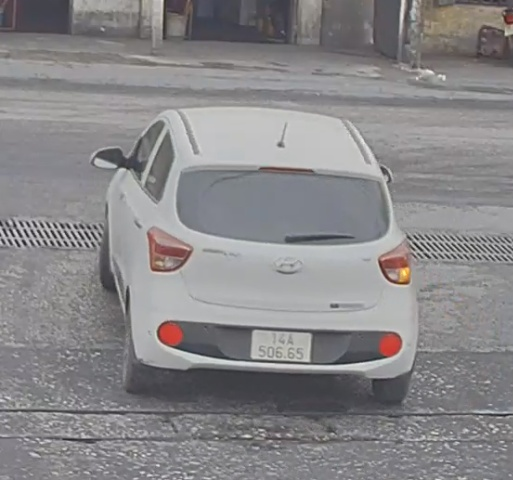vehicle plate: (251, 322, 313, 365)
